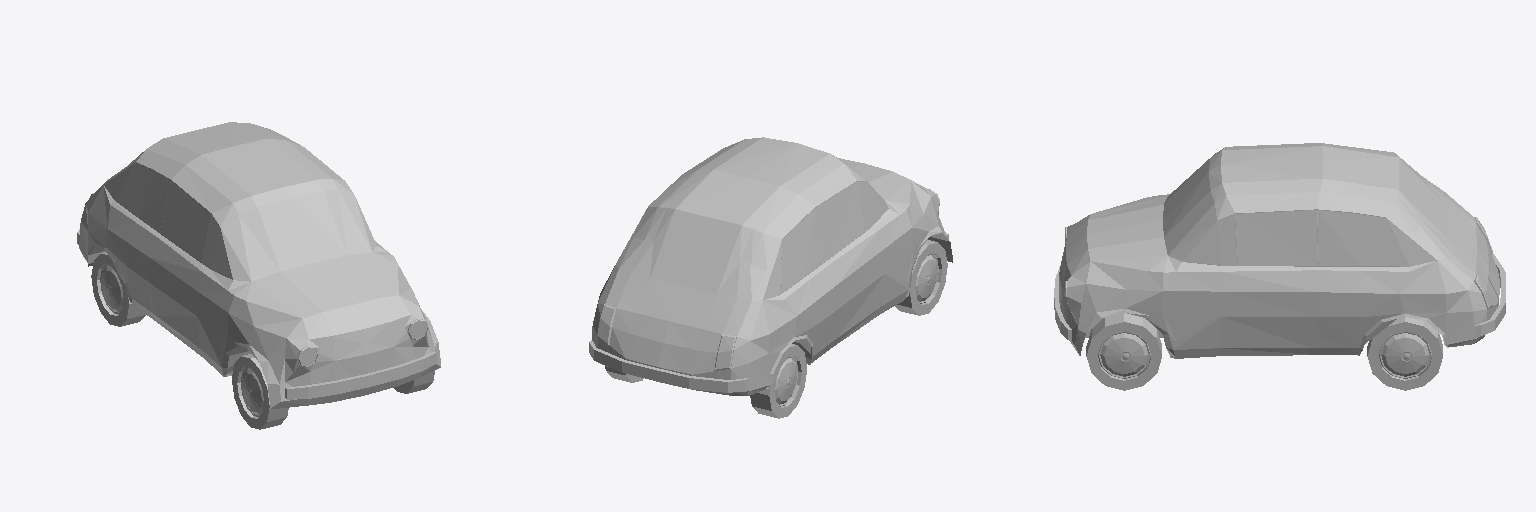
The model's file is fiat.obj.
The picture shows the model from 3 angles: view 1: azimuth 30°, elevation 25°; view 2: azimuth 150°, elevation 25°; view 3: azimuth 270°, elevation 25°; orthographic projection.
Visible parts, largest first — view 1: robin.body_Cube, robin.trunk_Cube.001, robin.doorRight_Cube.006, robin.frontwheels_Cylinder.003, robin.rearwheels_Cylinder.002, robin.frontbumper_Cube.002; view 2: robin.body_Cube, robin.doorRight_Cube.006, robin.hood_Cube.007, robin.rearwheels_Cylinder.002, robin.frontwheels_Cylinder.003, robin.rearbumper_Cube.003, robin.trunk_Cube.001; view 3: robin.body_Cube, robin.doorLeft_Cube.008, robin.trunk_Cube.001, robin.frontwheels_Cylinder.003, robin.rearwheels_Cylinder.002, robin.hood_Cube.007, robin.rearbumper_Cube.003.
Boxes of the visible parts, x1=… form: robin.body_Cube: x1=79, y1=122, x2=440, y2=408; robin.trunk_Cube.001: x1=228, y1=252, x2=418, y2=339; robin.doorRight_Cube.006: x1=148, y1=180, x2=232, y2=362; robin.frontwheels_Cylinder.003: x1=232, y1=354, x2=434, y2=429; robin.rearwheels_Cylinder.002: x1=91, y1=252, x2=145, y2=326; robin.frontbumper_Cube.002: x1=285, y1=352, x2=436, y2=399; robin.body_Cube: x1=592, y1=137, x2=952, y2=395; robin.doorRight_Cube.006: x1=816, y1=181, x2=906, y2=337; robin.hood_Cube.007: x1=609, y1=273, x2=736, y2=374; robin.rearwheels_Cylinder.002: x1=605, y1=344, x2=806, y2=418; robin.frontwheels_Cylinder.003: x1=895, y1=240, x2=947, y2=315; robin.rearbumper_Cube.003: x1=589, y1=340, x2=748, y2=392; robin.trunk_Cube.001: x1=838, y1=158, x2=930, y2=226; robin.body_Cube: x1=1059, y1=143, x2=1498, y2=358; robin.doorLeft_Cube.008: x1=1176, y1=209, x2=1318, y2=349; robin.trunk_Cube.001: x1=1066, y1=195, x2=1167, y2=290; robin.frontwheels_Cylinder.003: x1=1086, y1=313, x2=1161, y2=390; robin.rearwheels_Cylinder.002: x1=1367, y1=317, x2=1442, y2=390; robin.hood_Cube.007: x1=1448, y1=199, x2=1499, y2=305; robin.rearbumper_Cube.003: x1=1475, y1=254, x2=1505, y2=336.
Size of the model in its own units: 1.56 by 1.55 by 3.37.